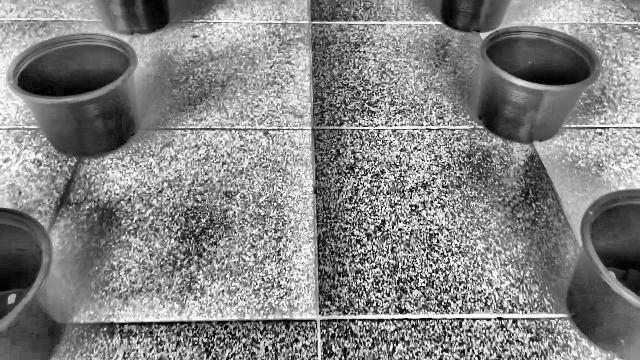pot: (5, 34, 140, 158), (476, 26, 602, 144)
